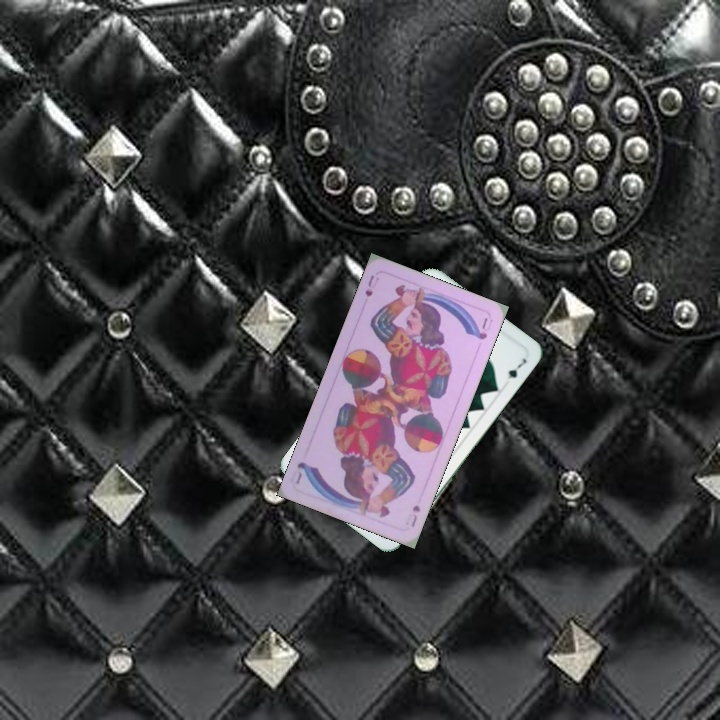SU: (401, 501, 423, 529), (361, 271, 382, 300)
